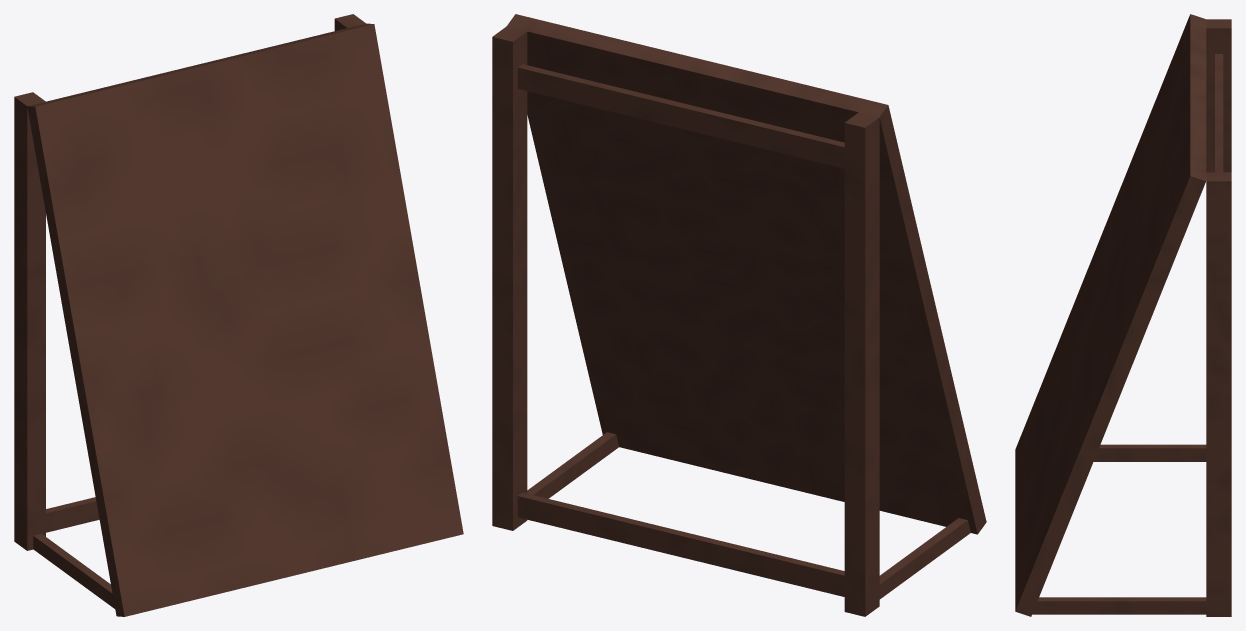
File: IronThing2.fbx
The picture shows the model from 3 angles, left to right: view 1: azimuth 30°, elevation 25°; view 2: azimuth 150°, elevation 25°; view 3: azimuth 270°, elevation 25°; orthographic projection. The views are drawn at different scales.
Parts seen in each view (by area): view 1: Cube.032; view 2: Cube.032; view 3: Cube.032.
Part boxes in pixels (left/top/right/bottom): Cube.032: left=14, top=14, right=463, bottom=616; Cube.032: left=492, top=14, right=986, bottom=616; Cube.032: left=1015, top=14, right=1231, bottom=616.
Bounding box in the file's own units: 172 × 218 × 96.82.
